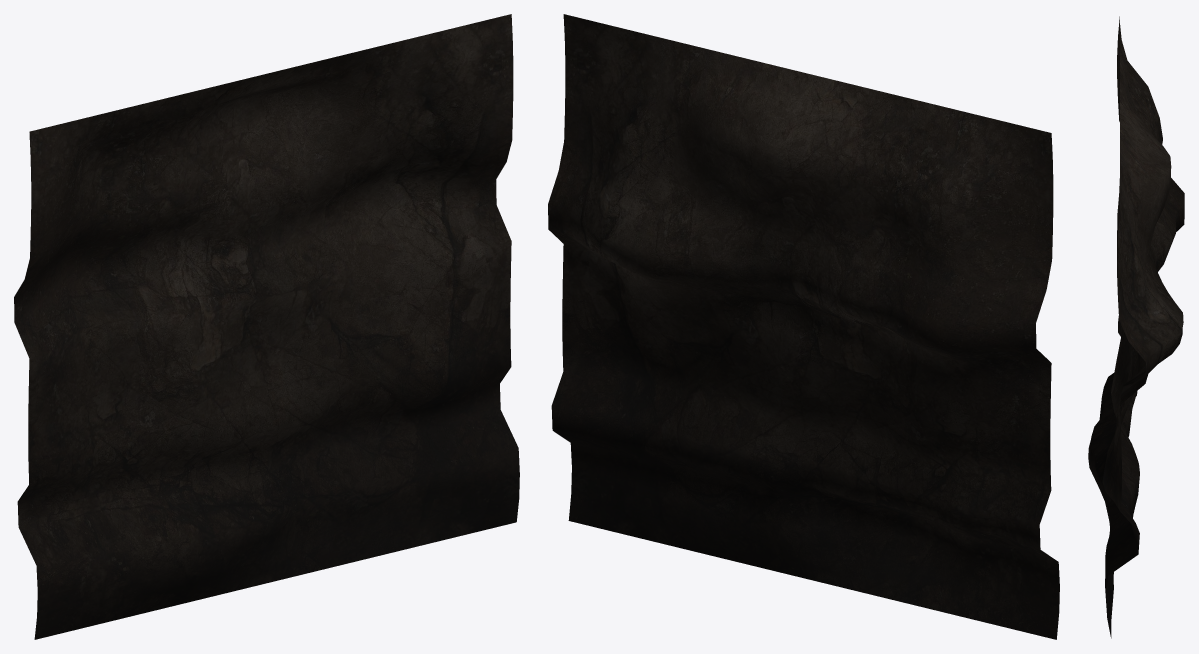
The model's file is cliff_wall_4m_deep.glb.
3 views of the same model, side by side, from view 1: azimuth 30°, elevation 25°; view 2: azimuth 150°, elevation 25°; view 3: azimuth 270°, elevation 25° (orthographic). The views are drawn at different scales.
Visible parts, largest first — view 1: cliff_wall_4m_deep; view 2: cliff_wall_4m_deep; view 3: cliff_wall_4m_deep.
Boxes of the visible parts, x1,y1,x2,y2 form: cliff_wall_4m_deep: (14, 14, 519, 639); cliff_wall_4m_deep: (548, 14, 1059, 639); cliff_wall_4m_deep: (1088, 16, 1184, 638).
Bounding box in the file's own units: 4 × 4 × 0.8189.
1 material, 1 textured.
